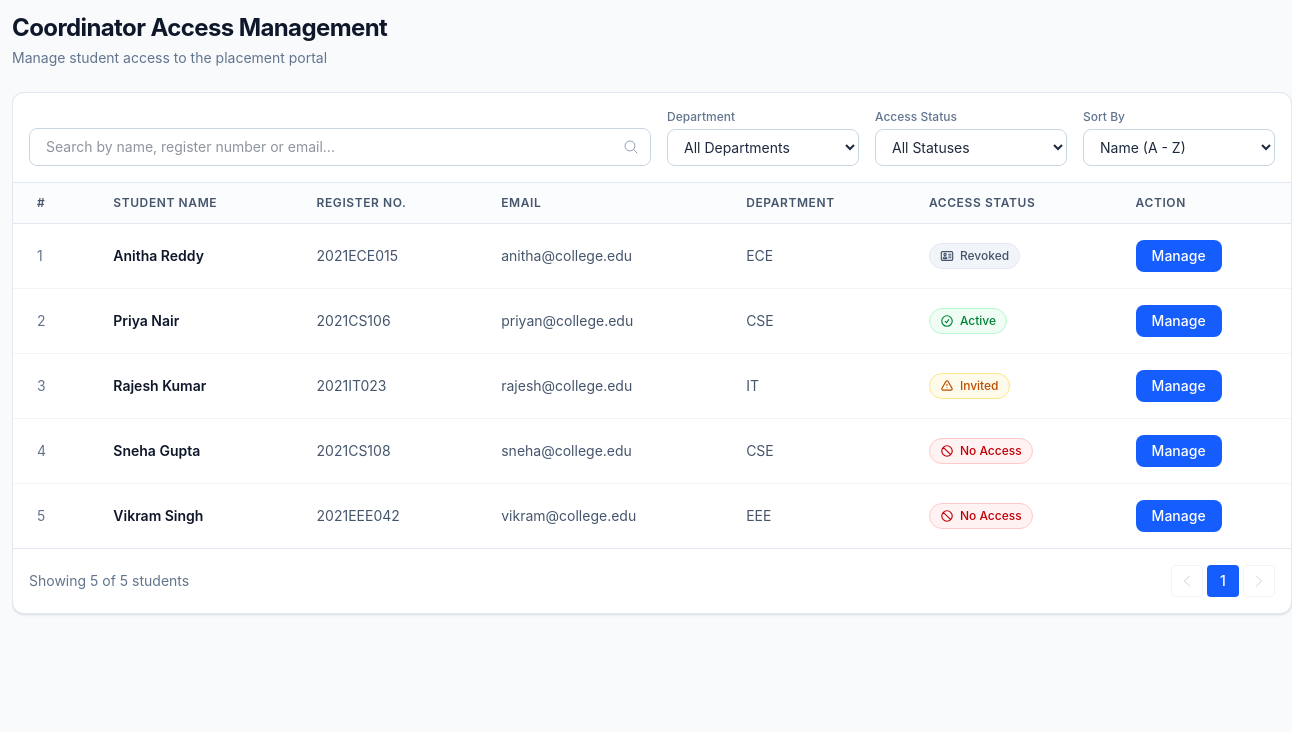
it: Coordinator Access Management - Lifecycle Implementation › Student Access Directory › searches students by register number
The width and height of the screenshot is (1292, 732).
Expected: the text "Priya Nair" is shown, [89,288,292,354]
Type "2021CS106" into the field with placeholder "Search by name, register number or email...". click: (340, 147)
box: [29,128,651,166]
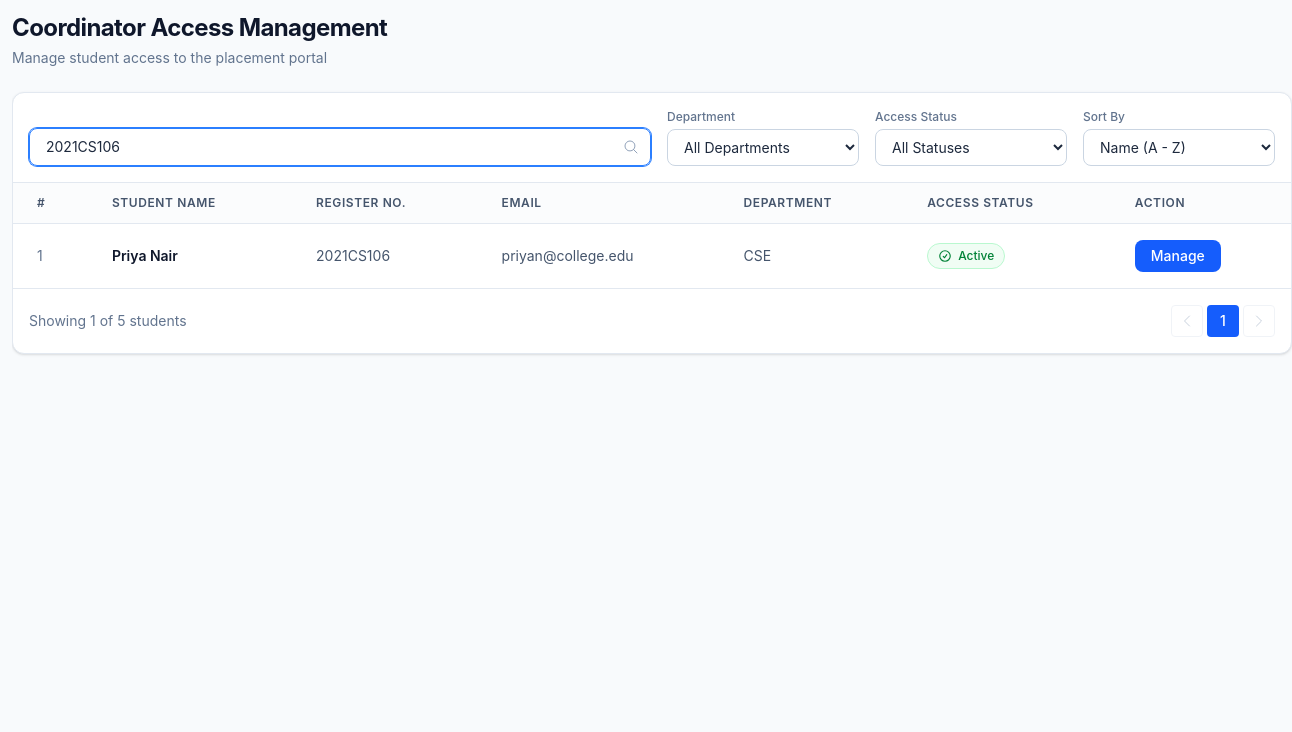
Expected: the text "Priya Nair" is shown, [88,224,292,288]
Expected: the text "Sneha Gupta" is gone
